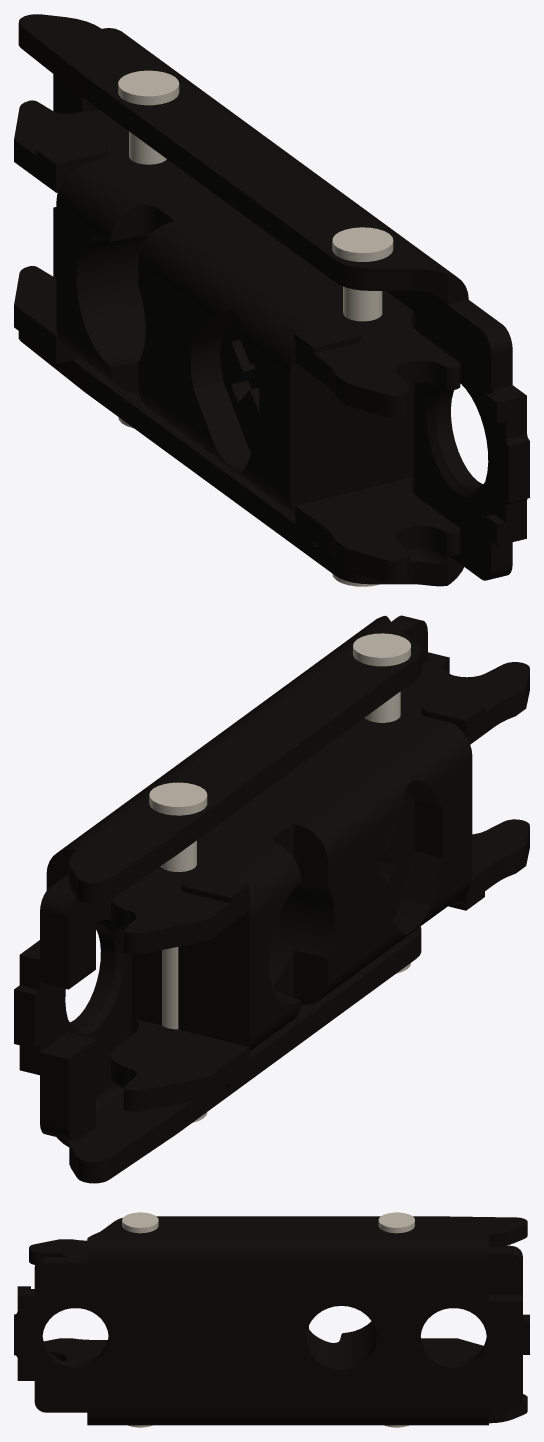
3 views of the same model, one above another, from view 1: azimuth 30°, elevation 25°; view 2: azimuth 150°, elevation 25°; view 3: azimuth 270°, elevation 25° (orthographic). The views are drawn at different scales.
Parts seen in each view (by area): view 1: bau0027282328; view 2: bau0027282328; view 3: bau0027282328.
Boxes of the visible parts, bbox=[...] form: bau0027282328: bbox=[14, 14, 529, 586]; bau0027282328: bbox=[14, 615, 529, 1183]; bau0027282328: bbox=[14, 1212, 529, 1427].
Size of the model in its own units: 8.5 by 18.65 by 43.67.
